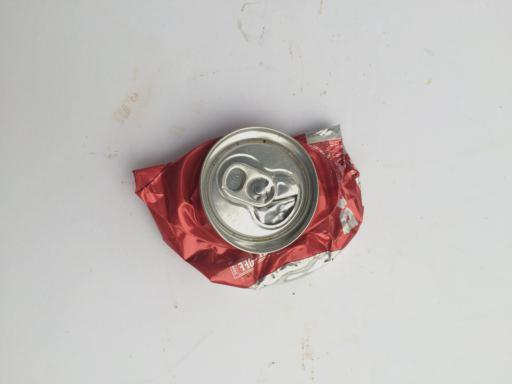metal: (132, 123, 365, 291)
